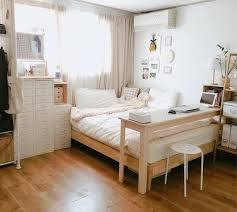Bed: (69, 82, 216, 180)
